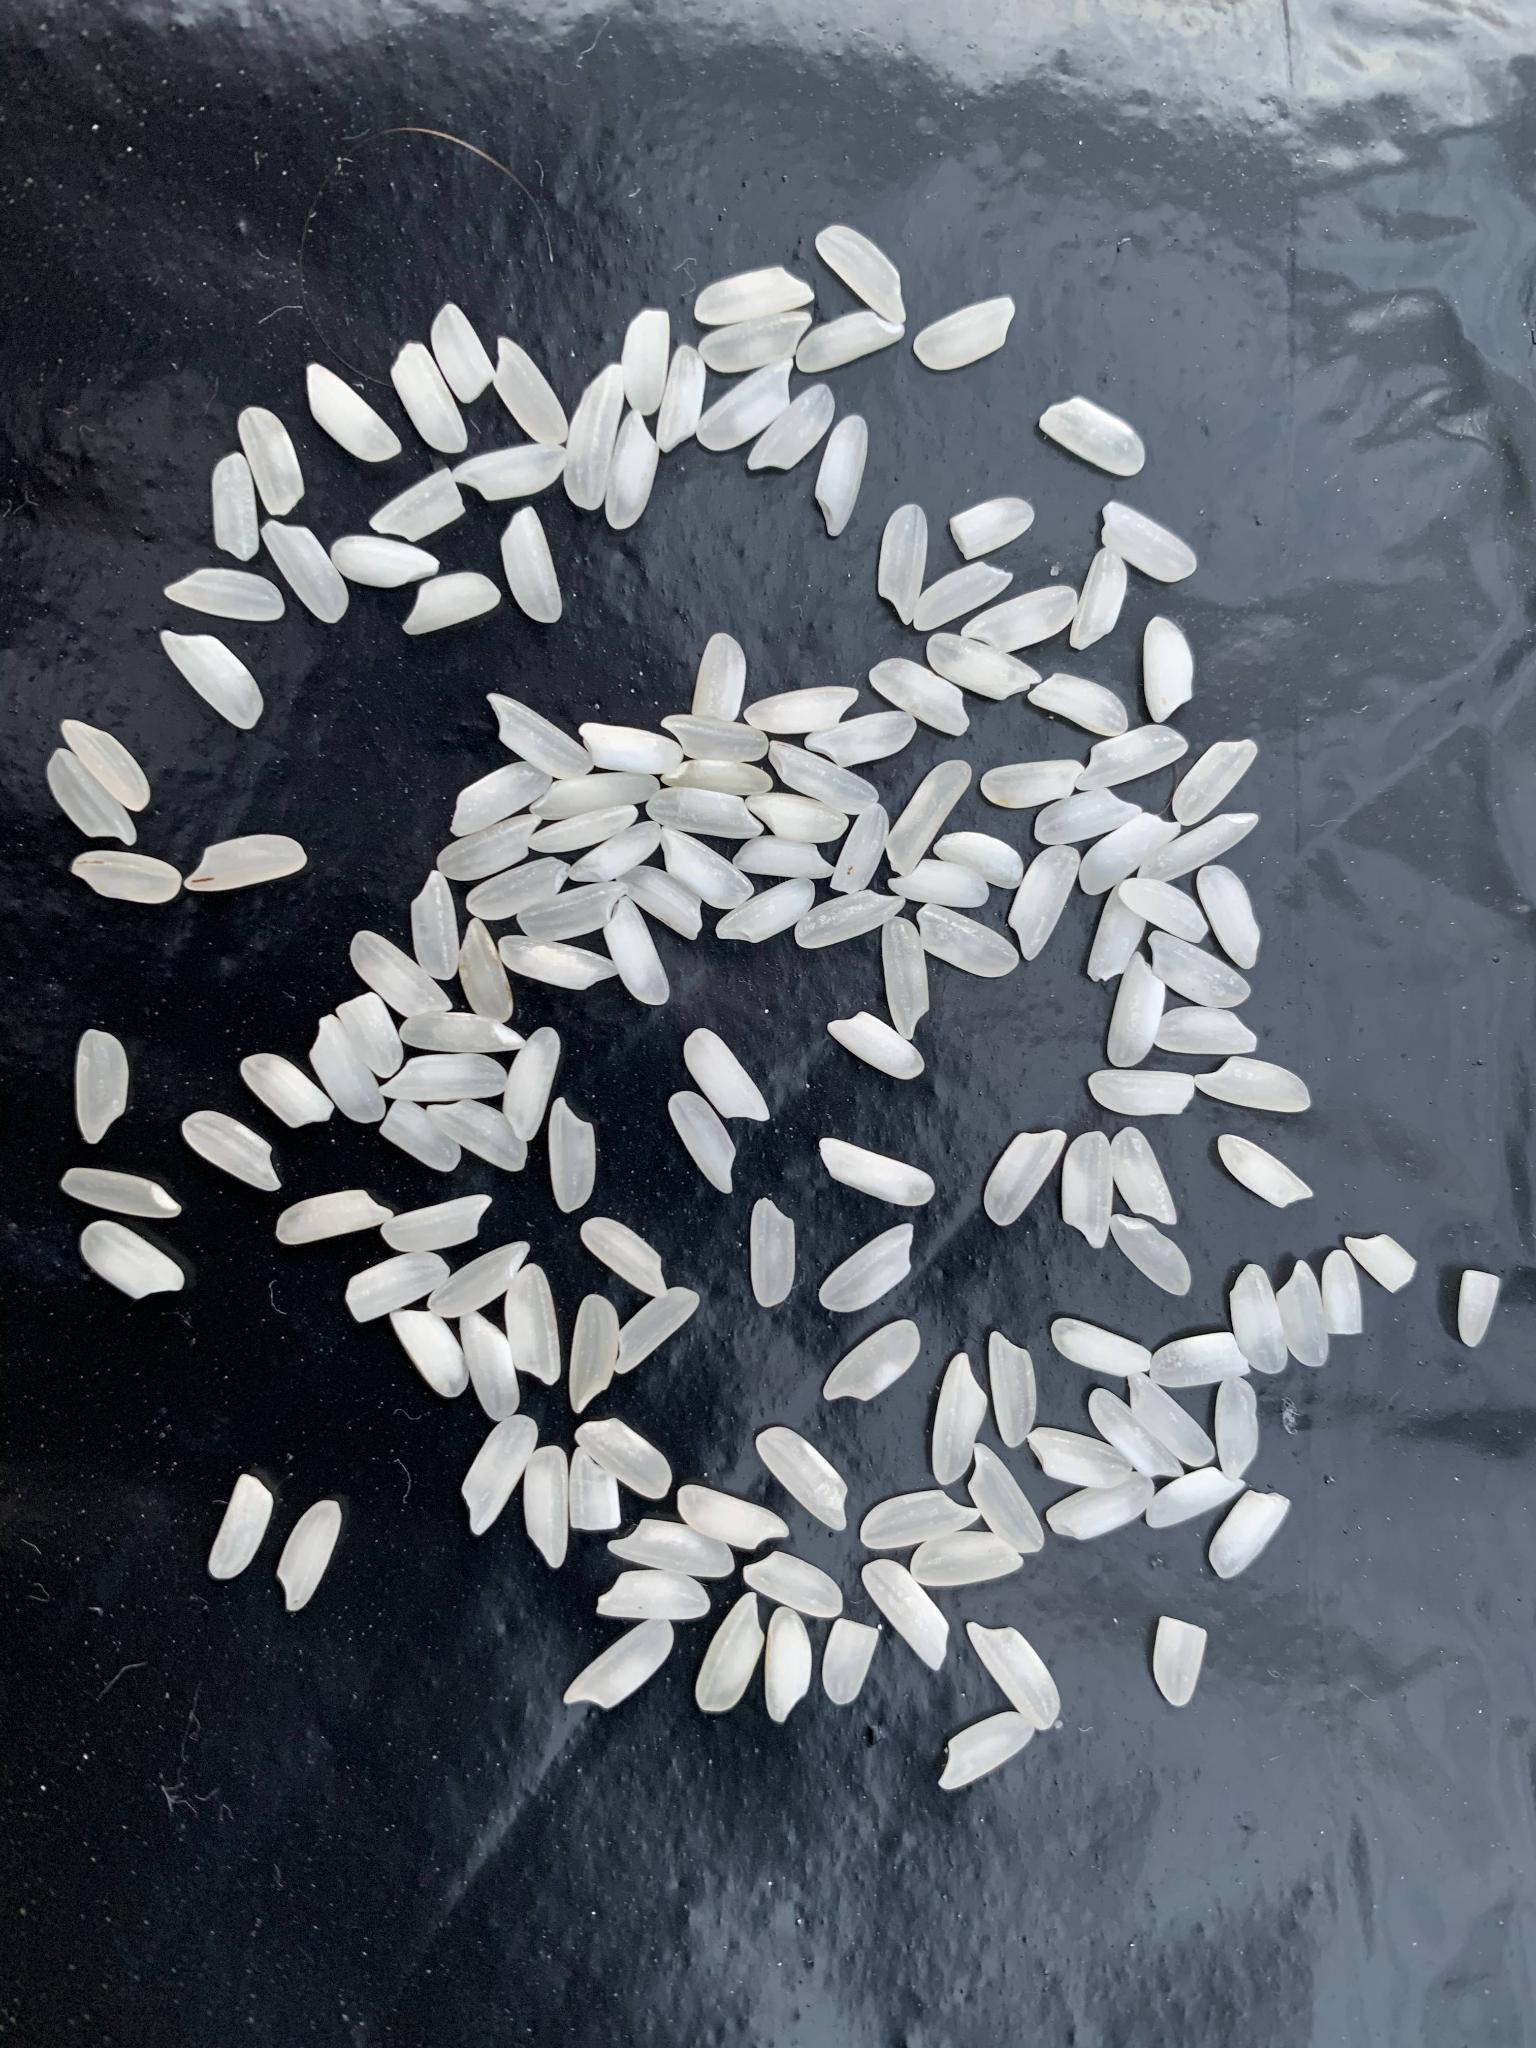rice: (966, 1621, 1060, 1730), (884, 760, 971, 877), (160, 632, 265, 729), (862, 1559, 949, 1672), (565, 1619, 674, 1708), (757, 1426, 849, 1530), (307, 363, 402, 463), (460, 1414, 537, 1535), (487, 692, 594, 779), (695, 356, 792, 452), (565, 361, 626, 510), (261, 521, 349, 624), (966, 1442, 1046, 1555), (816, 1222, 913, 1314), (1136, 813, 1258, 885), (1091, 1388, 1187, 1479), (816, 226, 907, 323), (1039, 397, 1146, 477), (48, 748, 136, 847), (766, 739, 879, 814), (76, 1221, 184, 1300), (181, 1109, 282, 1193), (352, 930, 453, 1014), (1079, 814, 1183, 897), (1008, 847, 1081, 959), (494, 337, 570, 445), (695, 1592, 765, 1709), (1149, 930, 1252, 1009), (1129, 1374, 1217, 1467), (686, 1029, 771, 1124), (573, 1417, 671, 1500), (394, 343, 466, 455), (820, 1137, 936, 1206), (311, 1014, 386, 1122), (428, 1242, 532, 1317), (963, 585, 1078, 655), (821, 1321, 920, 1401), (870, 658, 970, 737), (61, 721, 150, 810), (660, 827, 753, 911), (983, 1130, 1065, 1226), (1102, 502, 1196, 584), (928, 634, 1041, 701), (1046, 1472, 1155, 1542), (608, 1517, 736, 1577), (918, 905, 1018, 980), (1208, 1488, 1292, 1579), (678, 1484, 791, 1550), (1075, 724, 1187, 790), (1217, 1134, 1315, 1209), (613, 1288, 699, 1376), (749, 384, 836, 469), (1173, 740, 1258, 827), (858, 1490, 983, 1550), (913, 298, 1015, 371), (452, 763, 553, 835), (929, 1351, 984, 1485), (937, 1713, 1034, 1788), (368, 466, 465, 542), (184, 834, 310, 892), (581, 1218, 670, 1300), (345, 1251, 450, 1321), (436, 814, 541, 884), (239, 406, 303, 518), (387, 1309, 470, 1397), (668, 1092, 737, 1195), (1105, 951, 1165, 1071), (699, 311, 812, 374), (278, 1501, 340, 1613), (429, 1101, 528, 1172), (607, 898, 671, 1006), (913, 563, 1013, 632), (503, 506, 561, 626), (694, 268, 813, 326), (507, 1263, 563, 1385), (795, 890, 908, 951), (1034, 784, 1144, 847), (715, 879, 816, 947), (240, 1055, 332, 1129), (815, 414, 870, 539), (210, 1472, 273, 1580), (824, 1011, 925, 1079), (503, 1026, 561, 1142), (497, 935, 620, 990), (1110, 1127, 1178, 1226), (466, 856, 570, 921), (1196, 1056, 1312, 1113), (795, 313, 905, 373), (744, 1551, 842, 1617), (1112, 1213, 1191, 1295), (452, 445, 566, 502), (379, 1193, 490, 1251), (616, 866, 703, 940), (73, 1026, 127, 1143), (1029, 672, 1129, 737), (274, 1190, 395, 1243), (429, 302, 492, 403), (520, 884, 629, 942), (161, 569, 284, 621), (463, 1308, 518, 1422), (1229, 1266, 1288, 1374), (1029, 1429, 1134, 1488), (607, 410, 658, 531), (644, 787, 765, 839), (1146, 1467, 1247, 1529), (803, 713, 916, 768), (1199, 866, 1258, 969), (908, 1534, 1023, 1587), (60, 1168, 181, 1218), (1089, 876, 1146, 982), (458, 918, 515, 1024), (1050, 1317, 1154, 1376), (878, 506, 928, 626), (883, 916, 929, 1043), (336, 993, 407, 1077), (379, 1055, 510, 1100), (529, 774, 660, 819), (403, 576, 502, 635), (1062, 1130, 1112, 1247), (950, 495, 1036, 563), (331, 535, 439, 589), (655, 343, 707, 455), (528, 805, 639, 856), (382, 1100, 463, 1171), (1120, 877, 1208, 942), (547, 1097, 595, 1214), (73, 851, 182, 903), (1071, 548, 1128, 648), (987, 1330, 1036, 1447), (571, 1293, 618, 1413), (620, 310, 671, 418), (1150, 1330, 1249, 1387), (744, 685, 858, 734), (745, 792, 849, 845), (581, 721, 684, 774), (570, 821, 662, 880), (595, 1571, 712, 1617), (1276, 1259, 1326, 1367), (829, 803, 887, 895), (1142, 616, 1192, 722), (411, 871, 460, 980), (524, 1447, 568, 1567), (766, 1608, 812, 1724), (213, 455, 261, 561), (936, 832, 1025, 890), (1154, 1006, 1258, 1055), (750, 1195, 795, 1306), (891, 858, 991, 908), (399, 1013, 528, 1051), (1087, 1069, 1196, 1114), (662, 718, 770, 763), (1154, 1614, 1205, 1708), (823, 1619, 879, 1703), (692, 634, 745, 722), (981, 760, 1084, 805), (570, 1447, 624, 1530), (1217, 1377, 1260, 1482), (736, 835, 837, 879), (1344, 1235, 1417, 1293), (660, 758, 771, 793), (1323, 1250, 1362, 1338), (1459, 1269, 1499, 1350)
